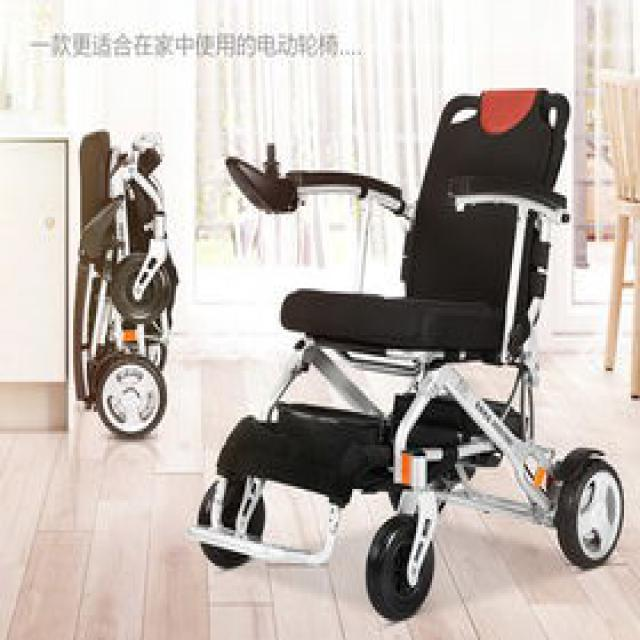wheelchairs: (203, 87, 629, 622)
